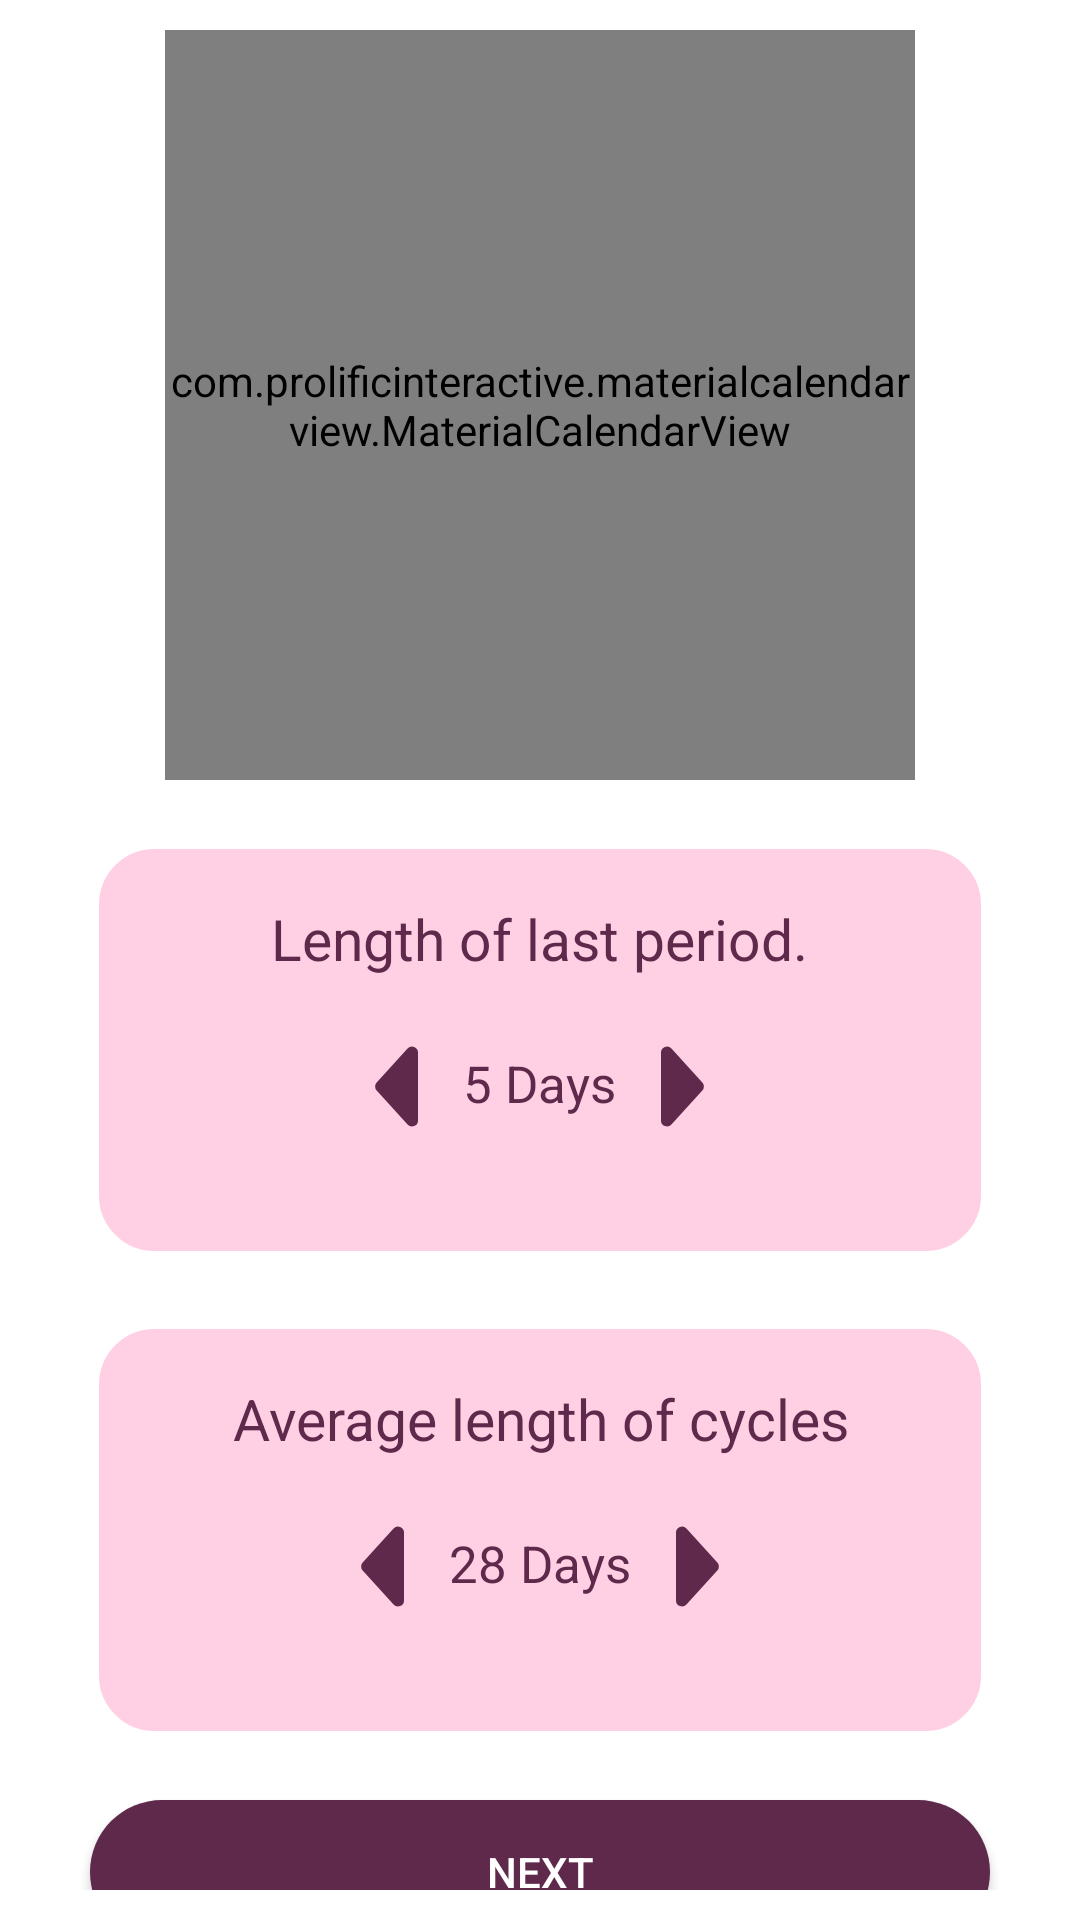

Named icons in this screenshot (1080w x 1920h) and their bounding boxes, box(x1, y1, x2, y2):
polygon: box(375, 1046, 418, 1127), box(661, 1046, 704, 1127), box(361, 1526, 404, 1607), box(676, 1526, 719, 1607)
